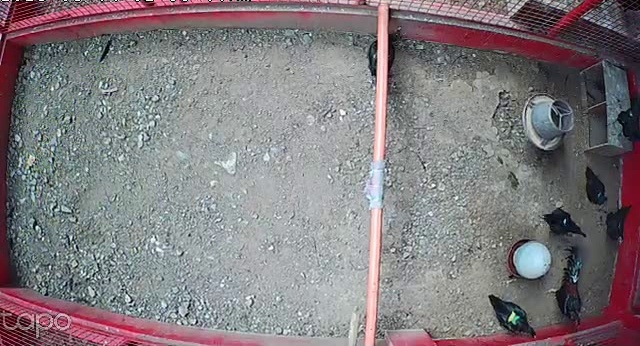Chicken: (361, 27, 404, 93), (485, 290, 540, 340), (538, 205, 590, 239), (600, 200, 635, 248), (583, 165, 611, 207)
Rooster: (545, 244, 588, 330)
Saddle_Color_YellowGreen: (509, 311, 521, 323)
